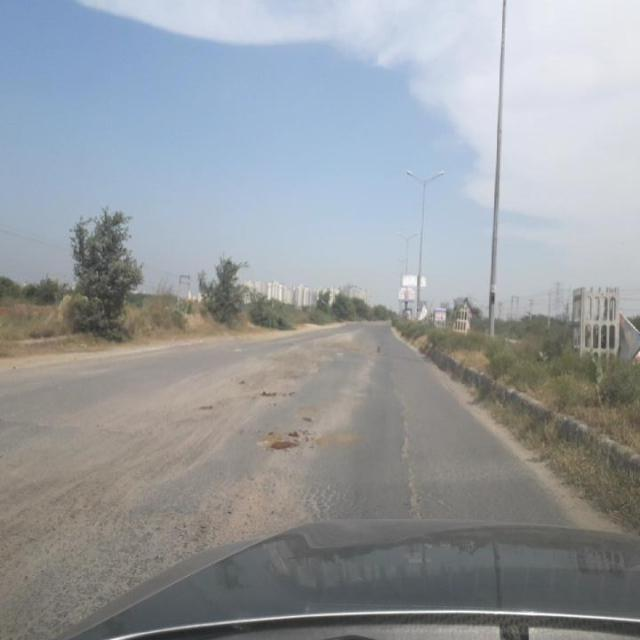Surface Erosion: (0, 231, 548, 567)
